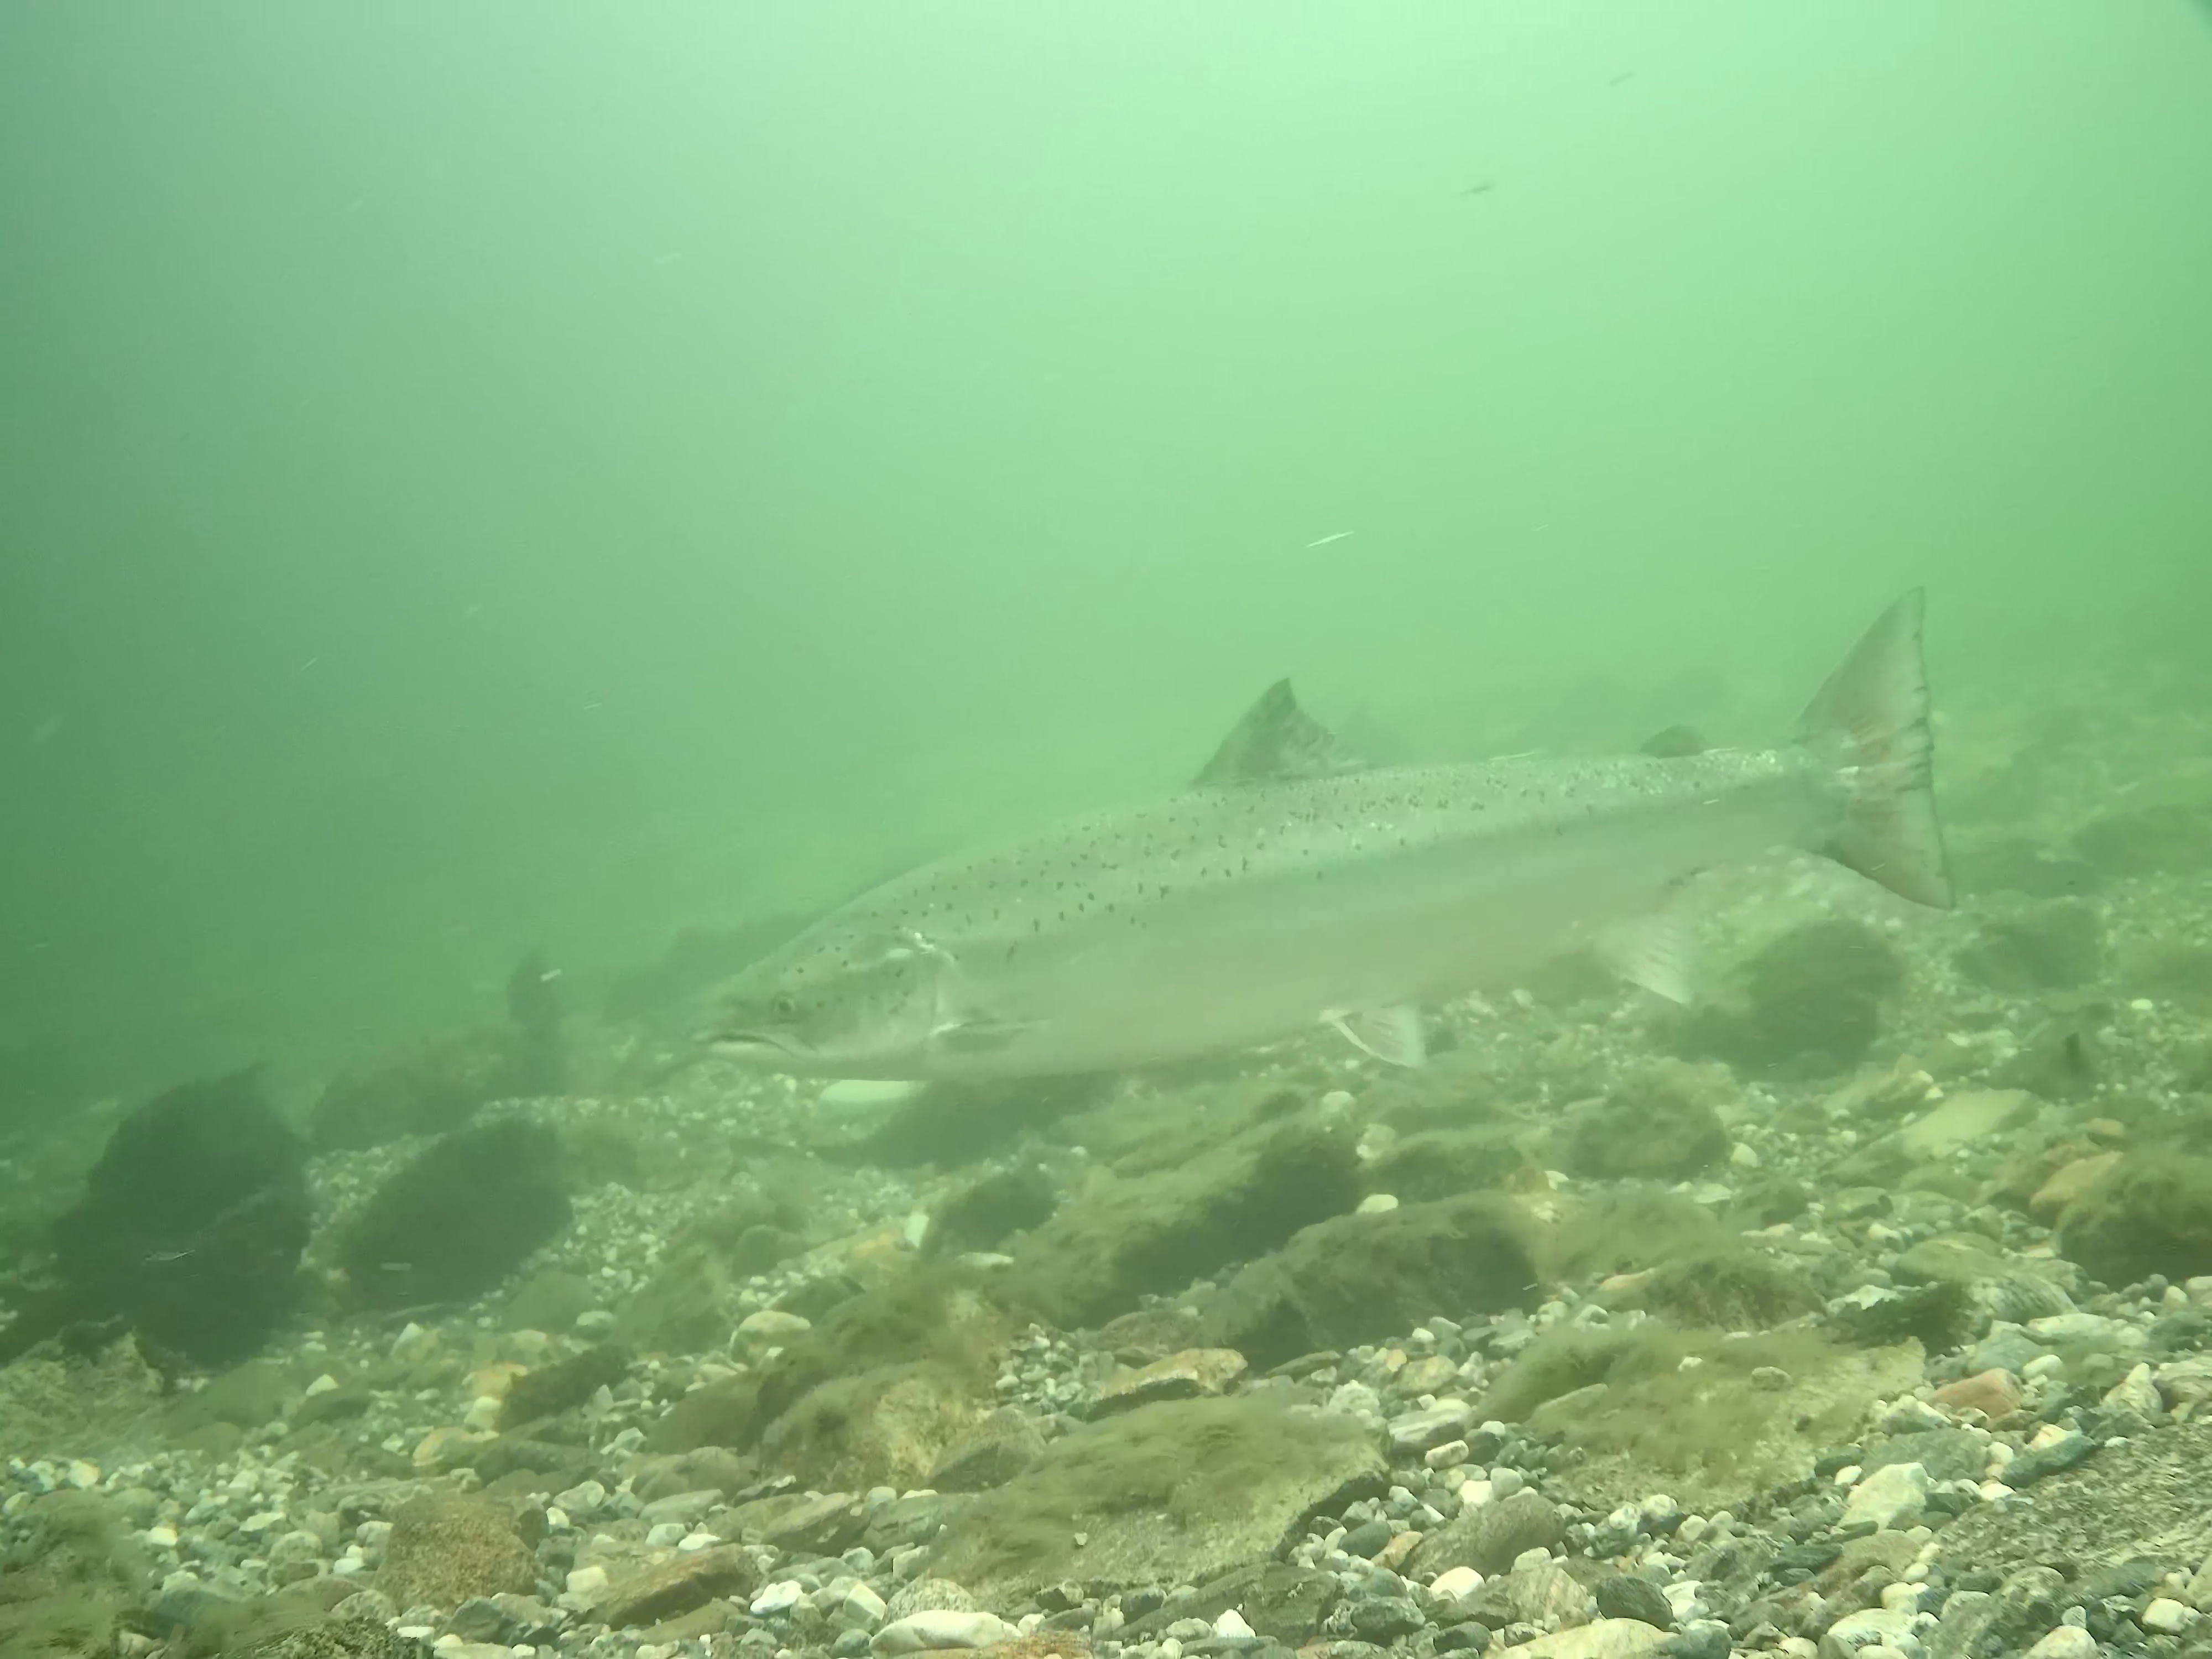salmon: (690, 584, 1966, 1087)
